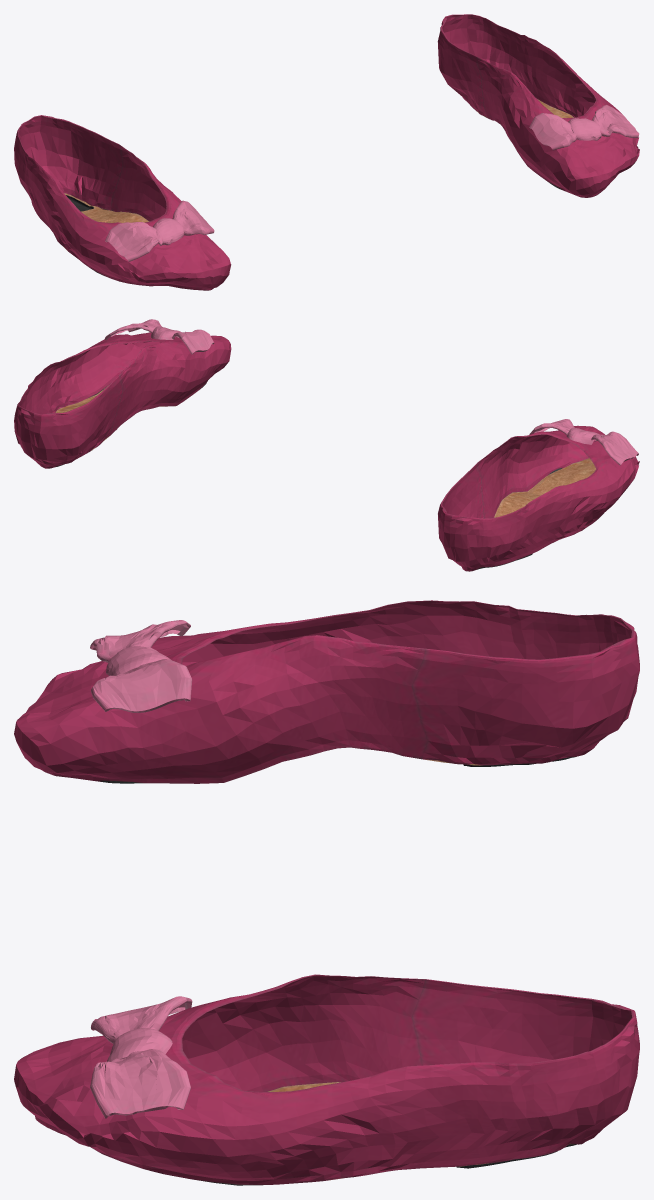
File: mhw_toigo_ballet_flats_with_bows.glb
The picture shows the model from 3 angles, top to bottom: view 1: azimuth 30°, elevation 25°; view 2: azimuth 150°, elevation 25°; view 3: azimuth 270°, elevation 25°; orthographic projection. The views are drawn at different scales.
Visible parts, largest first — view 1: mhw_toigo_ballet_flats_with_bows; view 2: mhw_toigo_ballet_flats_with_bows; view 3: mhw_toigo_ballet_flats_with_bows.
Boxes of the visible parts, x1,y1,x2,y2 form: mhw_toigo_ballet_flats_with_bows: (14,14,639,290); mhw_toigo_ballet_flats_with_bows: (14,319,639,571); mhw_toigo_ballet_flats_with_bows: (14,600,639,1185).
Size of the model in its own units: 0.5326 by 0.0746 by 0.2839.
Materials: 1 (1 with a texture image).
